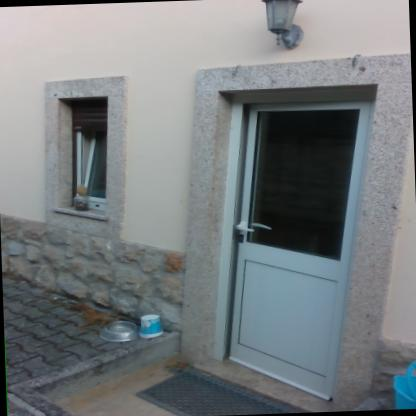closed: (197, 72, 395, 402)
